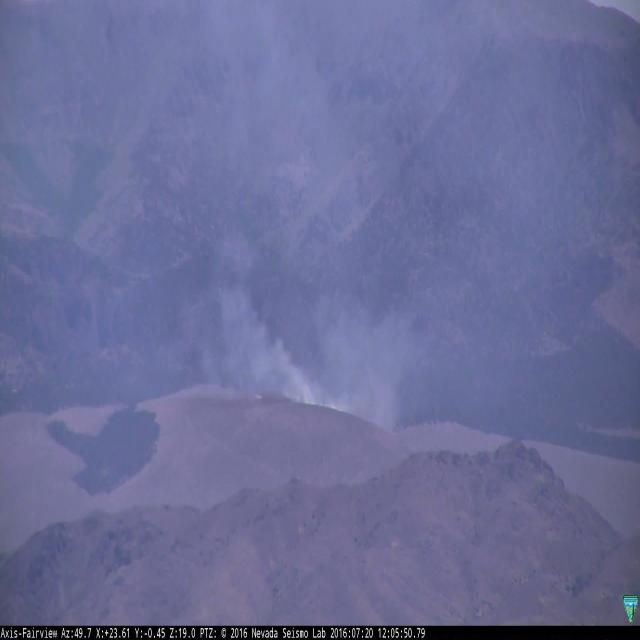smoke: (216, 277, 404, 434)
